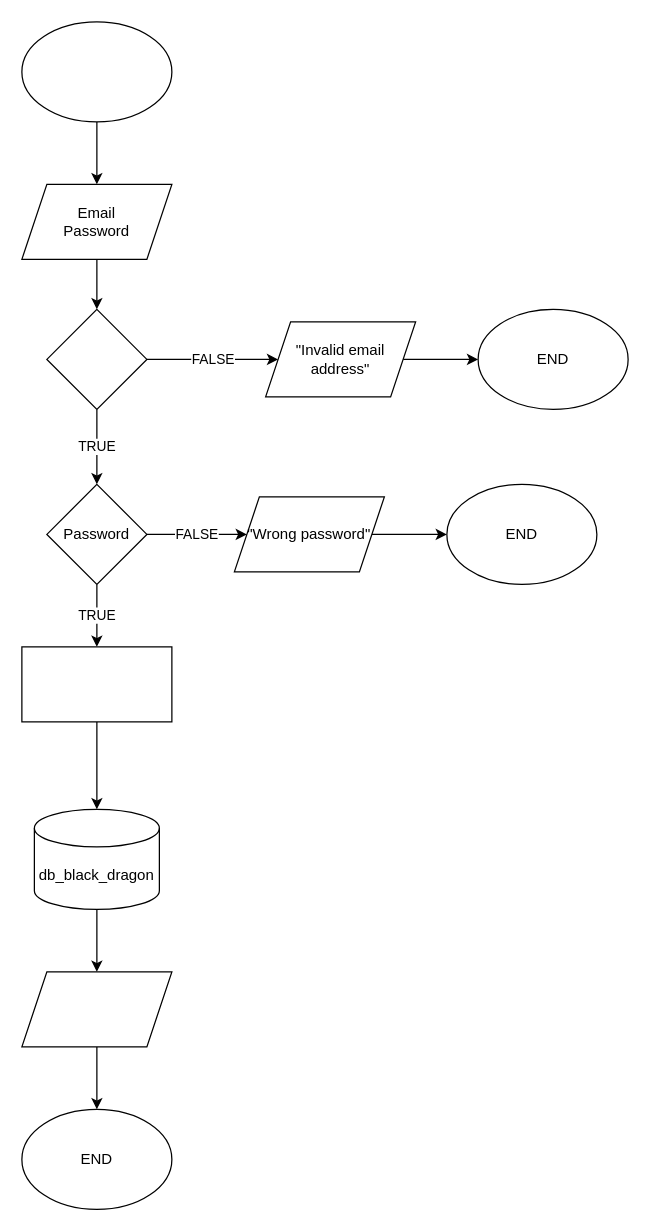
Some shapes in this 650 by 1231 pixel diagram are drawn without their labels. Here are the shapes that lost their labels. From the top down, the centre of each, then its label:
point 96,71: START
point 96,358: Email
point 96,684: Get Data User
point 96,1009: Profile page
